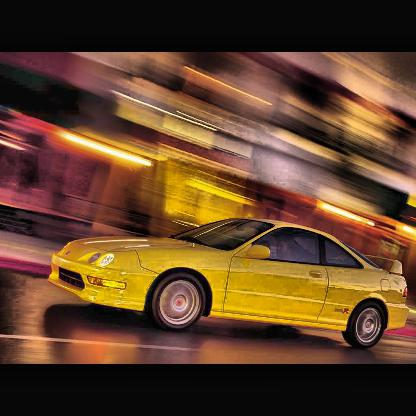Acura Integra Type R 2001: (49, 216, 411, 350)
